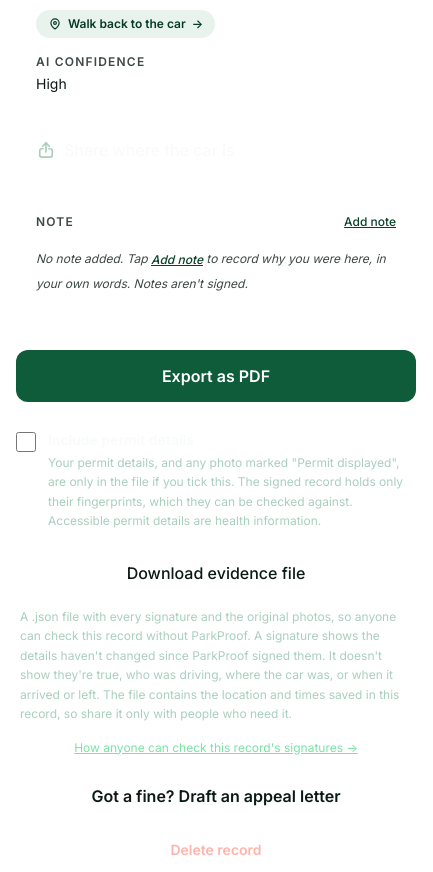
Test: the evidence file on the record screen › permit details go in only when the driver ticks "Include permit details"
This screenshot has width=433, height=872.
Later steps or results of the test are not shown.
(page scrolled)
Expected: the checkbox labelled "Include permit details" is not checked, [16, 432, 36, 452]
Expected: the text "Accessible permit details are health information" is shown, [48, 455, 403, 528]
Click the button "Download evidence file".
click(216, 573)  # box [16, 547, 416, 599]
Click the checkbox labelled "Include permit details".
click(26, 442)  # box [16, 432, 36, 452]
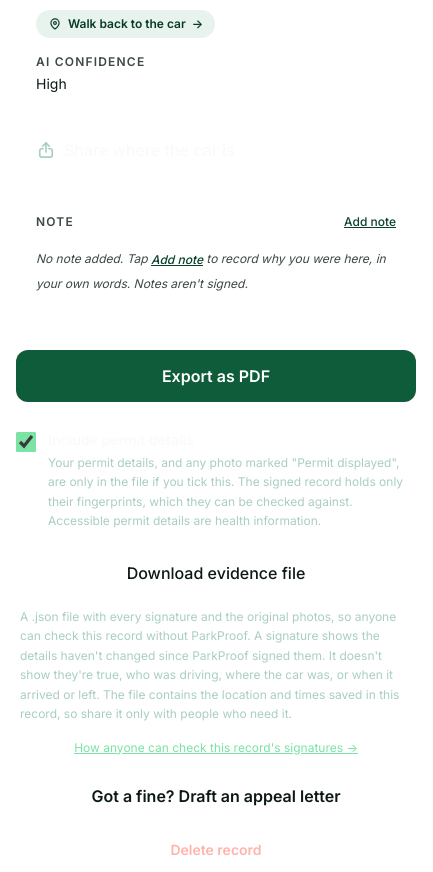
Expected: the button "Download evidence file" is enabled, [16, 547, 416, 599]
Now the checkbox labelled "Include permit details" is checked, box [16, 432, 36, 452]
